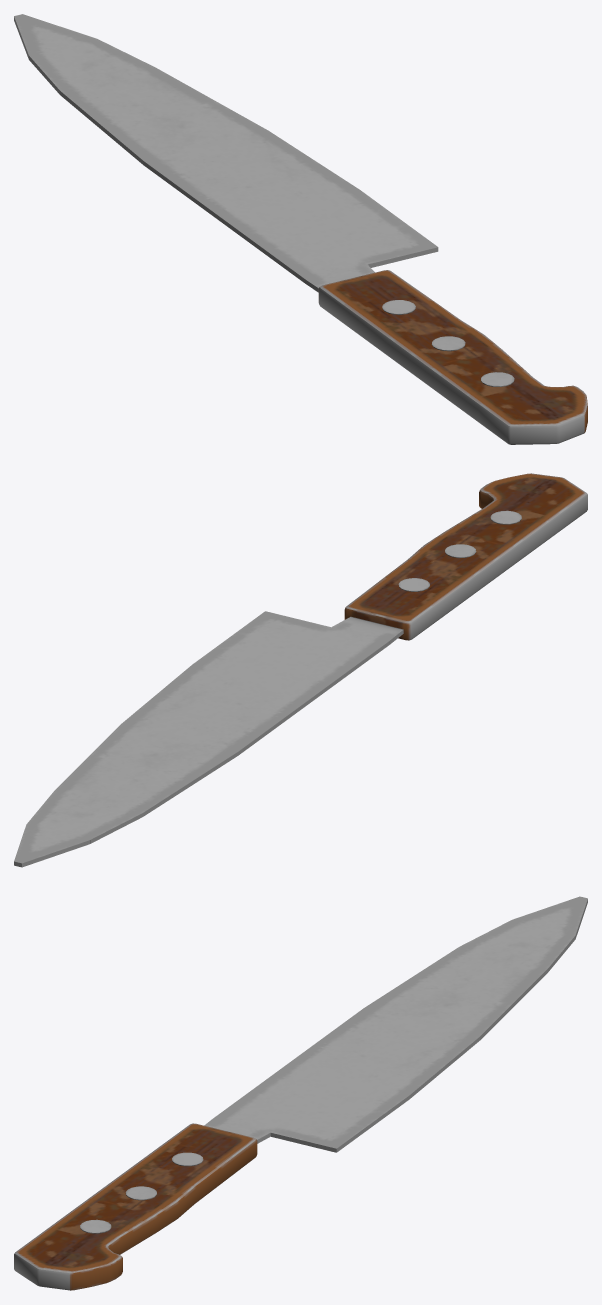
Rendered from knife.fbx.
3 views of the same model, one above another, from view 1: azimuth 30°, elevation 25°; view 2: azimuth 150°, elevation 25°; view 3: azimuth 330°, elevation 25° (orthographic). The views are drawn at different scales.
Parts seen in each view (by area): view 1: chef knife; view 2: chef knife; view 3: chef knife.
Part boxes in pixels (x1=…): chef knife: x1=14, y1=14, x2=587, y2=444; chef knife: x1=14, y1=473, x2=587, y2=867; chef knife: x1=14, y1=896, x2=587, y2=1290.
Bounding box in the file's own units: 8.22 × 1.23 × 57.87.
